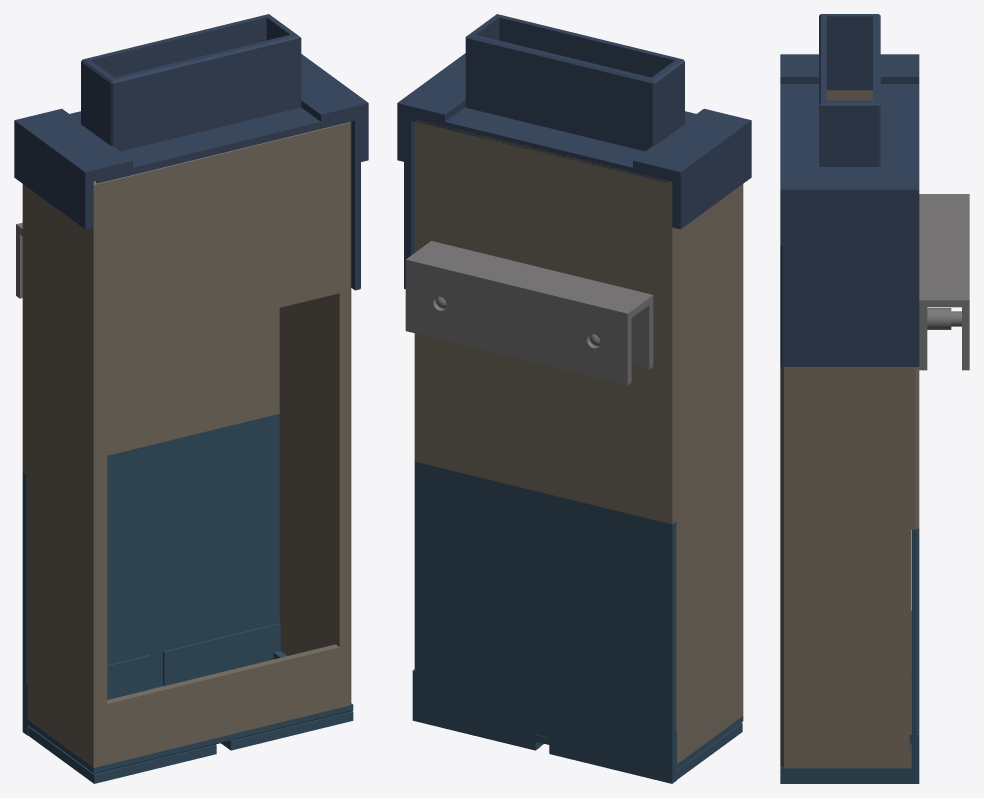
The model's file is model_animation.glb.
3 views of the same model, side by side, from view 1: azimuth 30°, elevation 25°; view 2: azimuth 150°, elevation 25°; view 3: azimuth 270°, elevation 25° (orthographic). The views are drawn at different scales.
Visible parts, largest first — view 1: Body(2944B7C6-8605-4250-BAC3-8C70497F70A5), Battery_Cover(0C81B7FA-E26F-4ABF-9CC8-8F6A558160B1), Top_Cover(6CC3FCEF-C2D6-4EAB-B3C7-62C0CF3C510E), Top_Cover(FEDF4897-FBC3-4F9D-89FD-D34CA5F386BD), Top_Cover(B093CB31-94E4-4DF8-A5EE-5B9381DB051D), Battery_Cover(58E9612E-59CC-438D-9DA4-9EF04E1BCA2E), Battery_Cover(2E26C378-519B-4840-93D0-2A747AF6A684), Top_Cover(AC56E242-96EA-4C6F-9930-C96382C371E2); view 2: Body(2944B7C6-8605-4250-BAC3-8C70497F70A5), Battery_Cover(0C81B7FA-E26F-4ABF-9CC8-8F6A558160B1), Top_Cover(6CC3FCEF-C2D6-4EAB-B3C7-62C0CF3C510E), Clip(46910DF7-C5F6-4DCE-9626-80B5F87E5C31), Top_Cover(FEDF4897-FBC3-4F9D-89FD-D34CA5F386BD), Top_Cover(B093CB31-94E4-4DF8-A5EE-5B9381DB051D), Battery_Cover(2E26C378-519B-4840-93D0-2A747AF6A684), Clip(16263F46-D7D1-4579-8E4A-EBC4A87A0DCC), Top_Cover(AC56E242-96EA-4C6F-9930-C96382C371E2), Clip(84B42212-3E5F-4644-B418-8616BB12FDAE), Battery_Cover(58E9612E-59CC-438D-9DA4-9EF04E1BCA2E); view 3: Body(2944B7C6-8605-4250-BAC3-8C70497F70A5), Top_Cover(B093CB31-94E4-4DF8-A5EE-5B9381DB051D), Top_Cover(AC56E242-96EA-4C6F-9930-C96382C371E2), Top_Cover(6CC3FCEF-C2D6-4EAB-B3C7-62C0CF3C510E), Clip(16263F46-D7D1-4579-8E4A-EBC4A87A0DCC), Battery_Cover(0C81B7FA-E26F-4ABF-9CC8-8F6A558160B1), Top_Cover(FEDF4897-FBC3-4F9D-89FD-D34CA5F386BD), Clip(84B42212-3E5F-4644-B418-8616BB12FDAE), Battery_Cover(58E9612E-59CC-438D-9DA4-9EF04E1BCA2E), Clip(46910DF7-C5F6-4DCE-9626-80B5F87E5C31), Clip(77C54F32-FCF8-4078-BC44-D1B857822310).
Boxes of the visible parts, box(x1,y1,x2,y2) form: Body(2944B7C6-8605-4250-BAC3-8C70497F70A5): box(22, 122, 351, 767); Battery_Cover(0C81B7FA-E26F-4ABF-9CC8-8F6A558160B1): box(22, 414, 353, 773); Top_Cover(6CC3FCEF-C2D6-4EAB-B3C7-62C0CF3C510E): box(81, 14, 301, 151); Top_Cover(FEDF4897-FBC3-4F9D-89FD-D34CA5F386BD): box(14, 108, 132, 229); Top_Cover(B093CB31-94E4-4DF8-A5EE-5B9381DB051D): box(70, 107, 360, 290); Battery_Cover(58E9612E-59CC-438D-9DA4-9EF04E1BCA2E): box(163, 623, 353, 750); Battery_Cover(2E26C378-519B-4840-93D0-2A747AF6A684): box(22, 655, 216, 783); Top_Cover(AC56E242-96EA-4C6F-9930-C96382C371E2): box(301, 54, 368, 162); Body(2944B7C6-8605-4250-BAC3-8C70497F70A5): box(414, 119, 743, 763); Battery_Cover(0C81B7FA-E26F-4ABF-9CC8-8F6A558160B1): box(412, 460, 743, 773); Top_Cover(6CC3FCEF-C2D6-4EAB-B3C7-62C0CF3C510E): box(465, 14, 684, 151); Clip(46910DF7-C5F6-4DCE-9626-80B5F87E5C31): box(405, 257, 631, 385); Top_Cover(FEDF4897-FBC3-4F9D-89FD-D34CA5F386BD): box(633, 108, 751, 229); Top_Cover(B093CB31-94E4-4DF8-A5EE-5B9381DB051D): box(404, 107, 695, 288); Battery_Cover(2E26C378-519B-4840-93D0-2A747AF6A684): box(549, 704, 742, 783); Clip(16263F46-D7D1-4579-8E4A-EBC4A87A0DCC): box(410, 243, 649, 317); Top_Cover(AC56E242-96EA-4C6F-9930-C96382C371E2): box(397, 53, 465, 161); Clip(84B42212-3E5F-4644-B418-8616BB12FDAE): box(428, 241, 653, 369); Battery_Cover(58E9612E-59CC-438D-9DA4-9EF04E1BCA2E): box(412, 669, 543, 750); Body(2944B7C6-8605-4250-BAC3-8C70497F70A5): box(780, 90, 919, 768); Top_Cover(B093CB31-94E4-4DF8-A5EE-5B9381DB051D): box(780, 84, 919, 366); Top_Cover(AC56E242-96EA-4C6F-9930-C96382C371E2): box(780, 167, 919, 245); Top_Cover(6CC3FCEF-C2D6-4EAB-B3C7-62C0CF3C510E): box(819, 14, 880, 166); Clip(16263F46-D7D1-4579-8E4A-EBC4A87A0DCC): box(927, 194, 961, 307); Battery_Cover(0C81B7FA-E26F-4ABF-9CC8-8F6A558160B1): box(780, 528, 919, 775); Top_Cover(FEDF4897-FBC3-4F9D-89FD-D34CA5F386BD): box(780, 54, 919, 83); Clip(84B42212-3E5F-4644-B418-8616BB12FDAE): box(919, 194, 927, 370); Battery_Cover(58E9612E-59CC-438D-9DA4-9EF04E1BCA2E): box(780, 676, 919, 783); Clip(46910DF7-C5F6-4DCE-9626-80B5F87E5C31): box(962, 194, 969, 370); Clip(77C54F32-FCF8-4078-BC44-D1B857822310): box(927, 308, 961, 329).
Size of the model in its own units: 0.083 by 0.1897 by 0.049.
